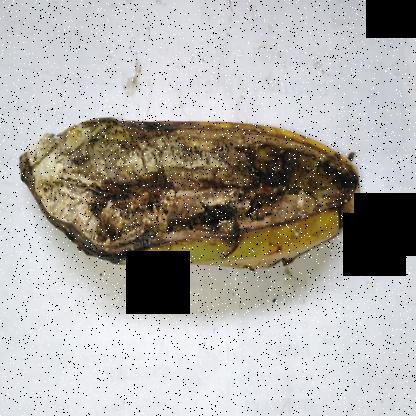rotten: (17, 110, 374, 262)
